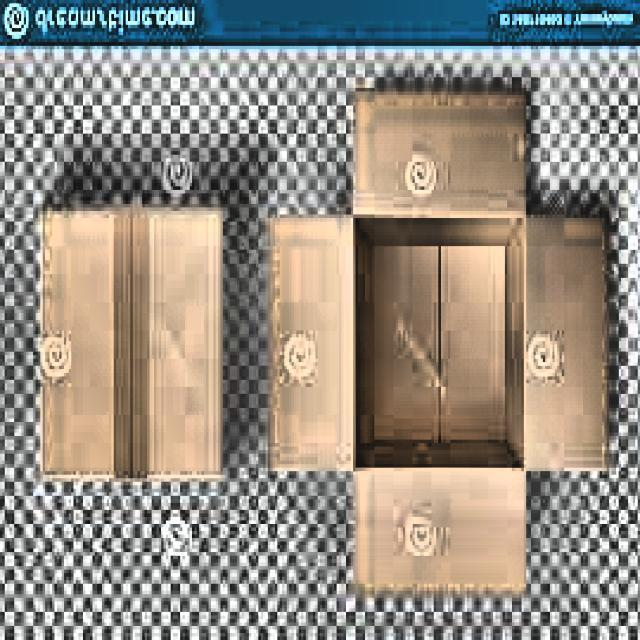cardboard: (38, 204, 223, 486)
